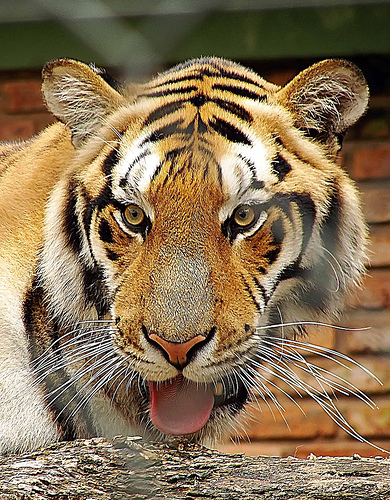Tigre: (33, 46, 363, 406)
